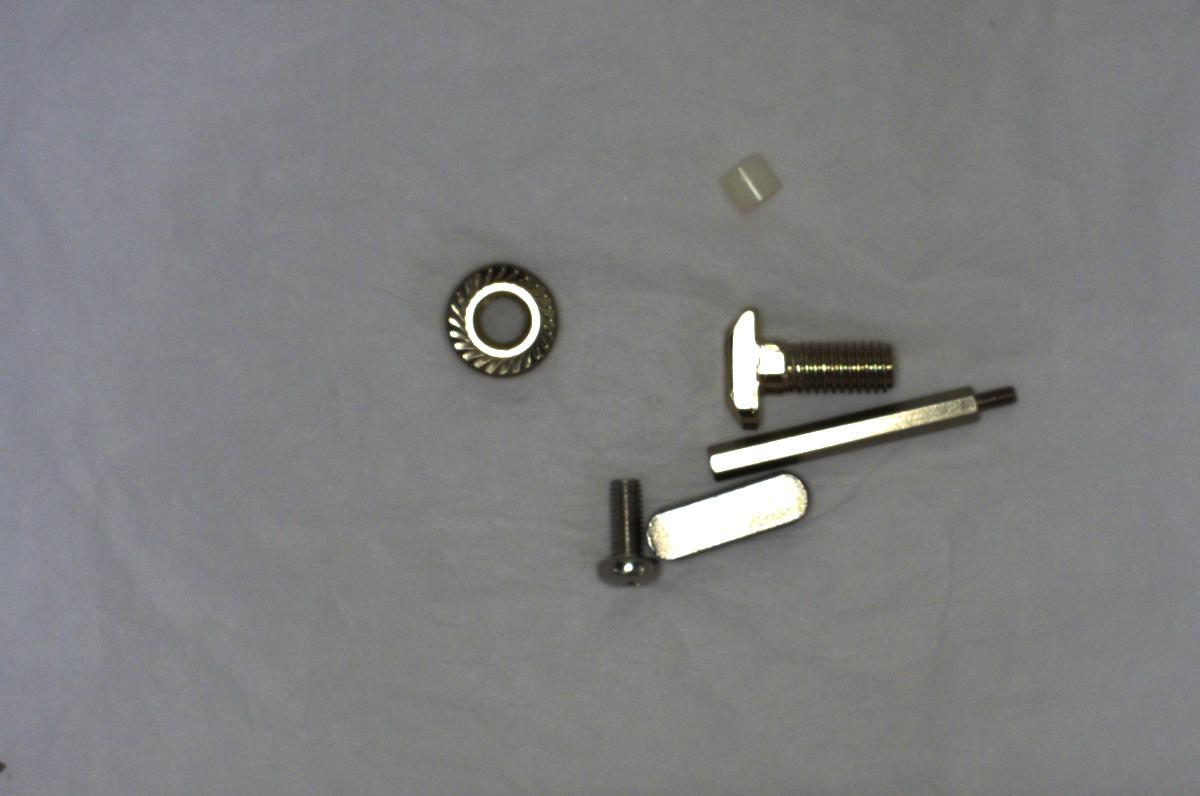Flange nut: (430, 250, 567, 390)
Hexagonal steel column: (687, 371, 1042, 483)
Keybar: (642, 467, 816, 572)
Plastic cushion pillar: (714, 146, 791, 227)
Round head screw: (583, 464, 667, 599)
T-shaped screw: (707, 298, 916, 433)
